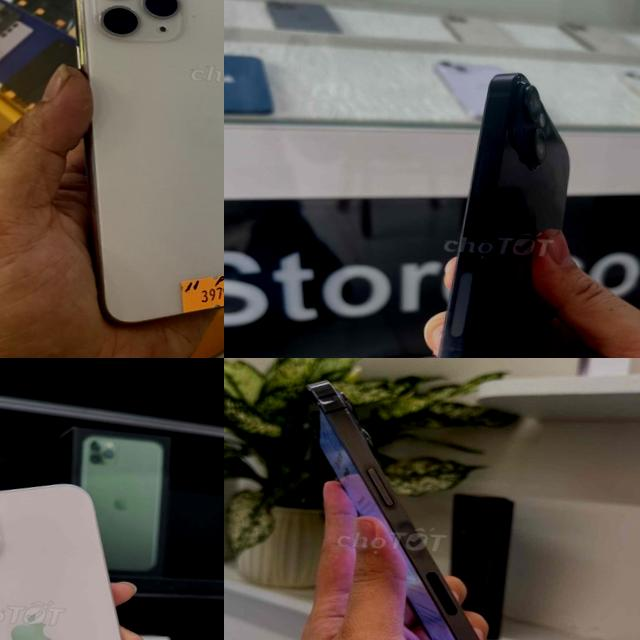scratch: (425, 253, 479, 358), (463, 190, 509, 234)
